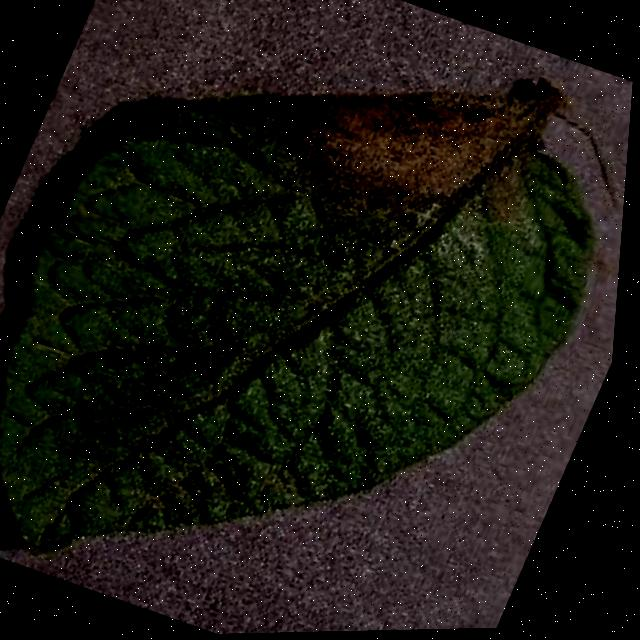Late_blight: (232, 3, 586, 268)
